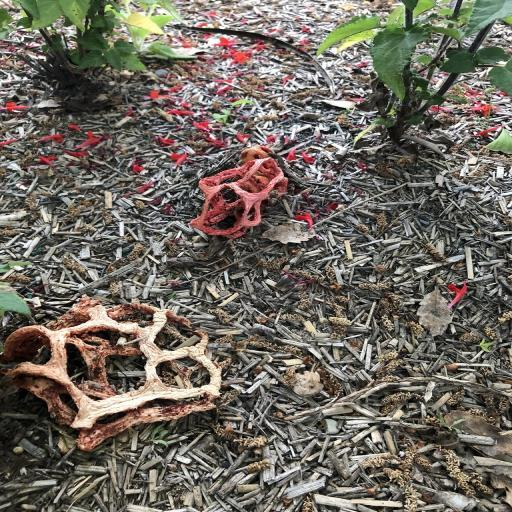mushroom: (0, 272, 227, 458), (176, 127, 300, 262)
